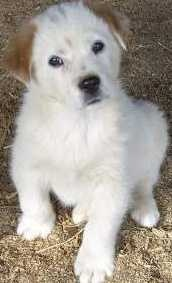Dog: (7, 1, 168, 282)
